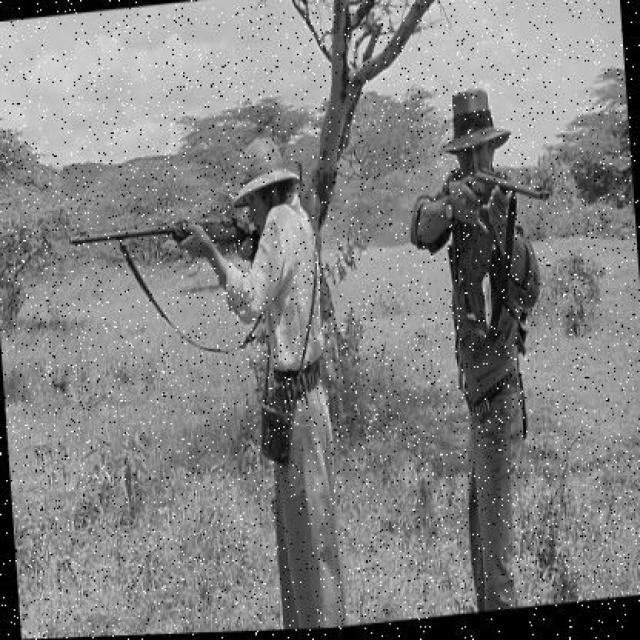weapon: (65, 213, 270, 272), (456, 170, 556, 225)
